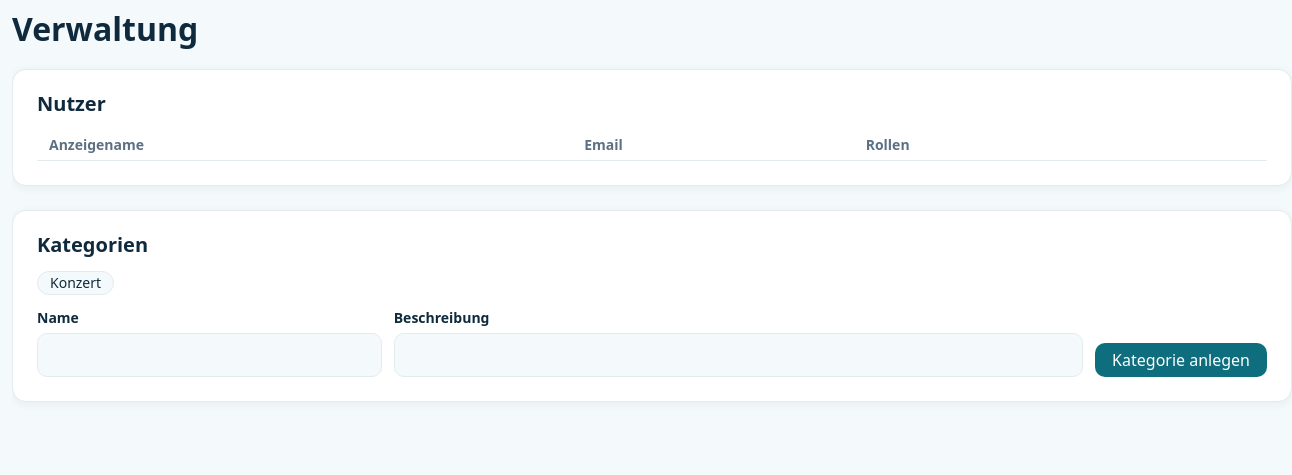
Test: AdminPage › creates a category and shows the duplicate error code
The image size is (1292, 475).
In the field labelled "Name": (209, 355) 37,333 -> 382,377, type "Lesung"
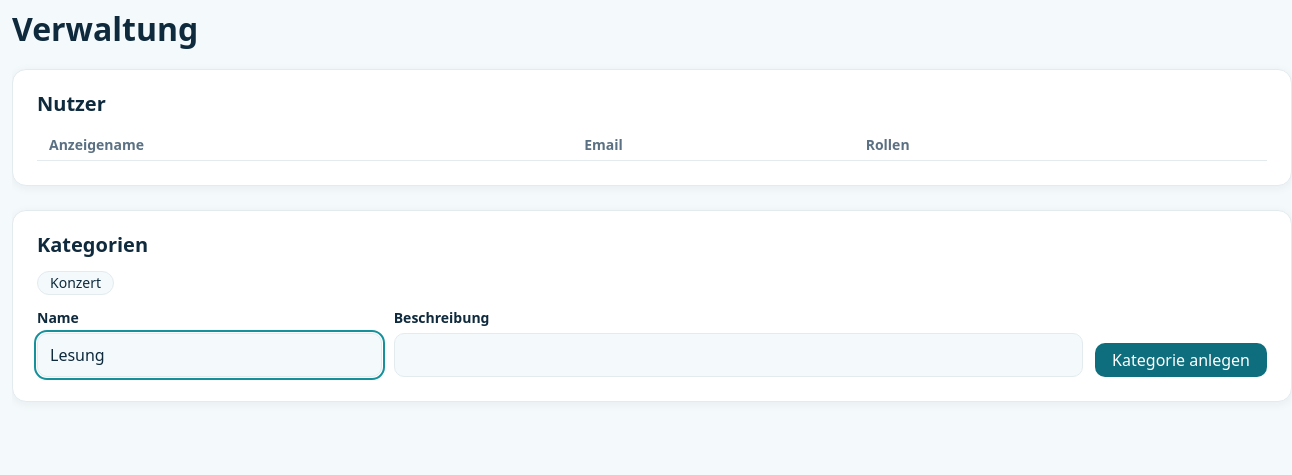
Click the button "Kategorie anlegen": (1181, 360) 1095,343 -> 1267,377
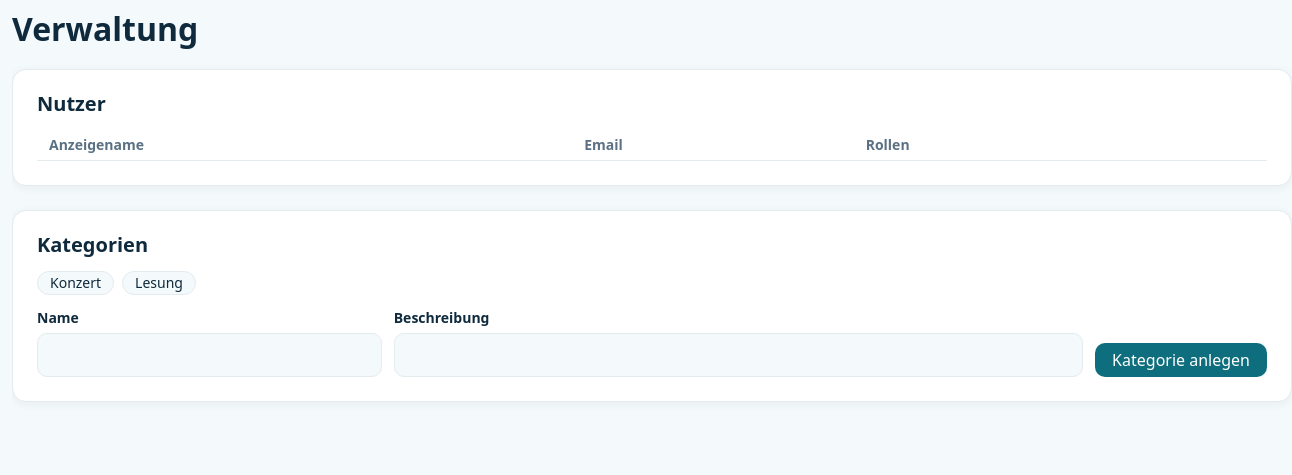
Check: the list item "Lesung" is shown, box 122,271 -> 196,295
Check: the field labelled "Name" is empty
In the field labelled "Name": (209, 355) 37,333 -> 382,377, type "Konzert"
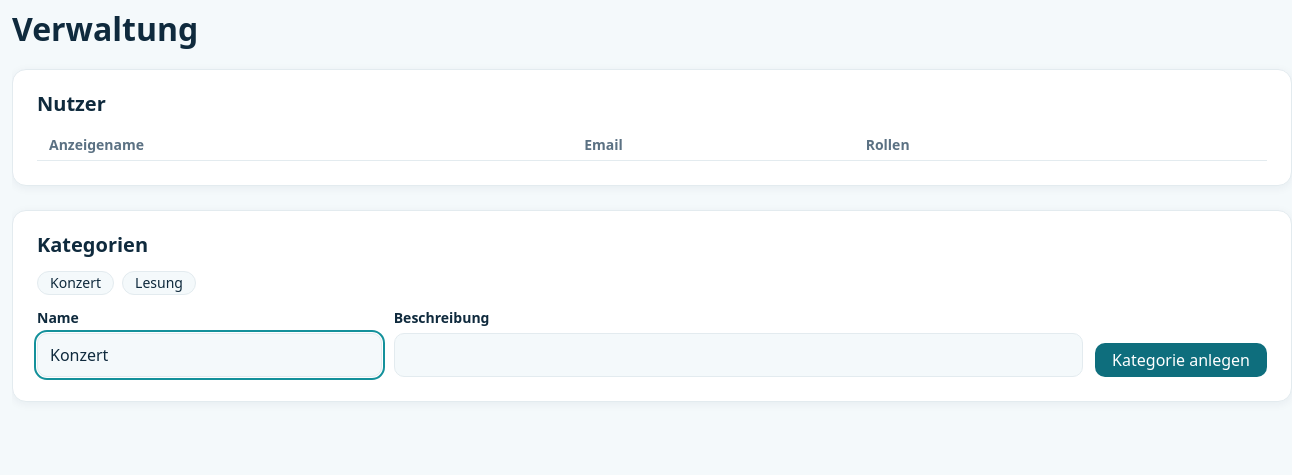
Click the button "Kategorie anlegen": (1181, 360) 1095,343 -> 1267,377
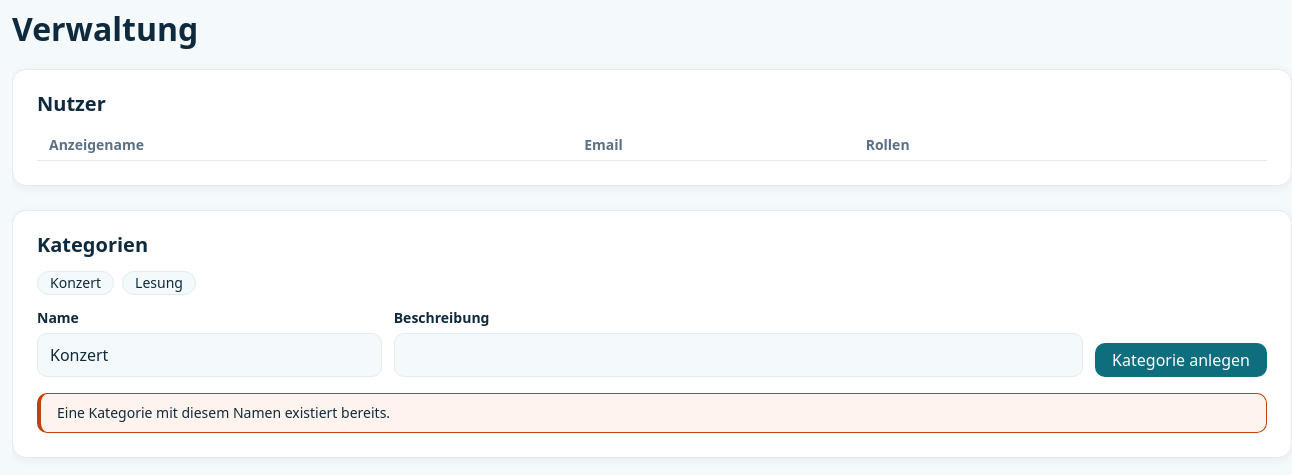
Check: the message reads "Eine Kategorie mit diesem Namen existiert bereits.", box 57,403 -> 390,422
